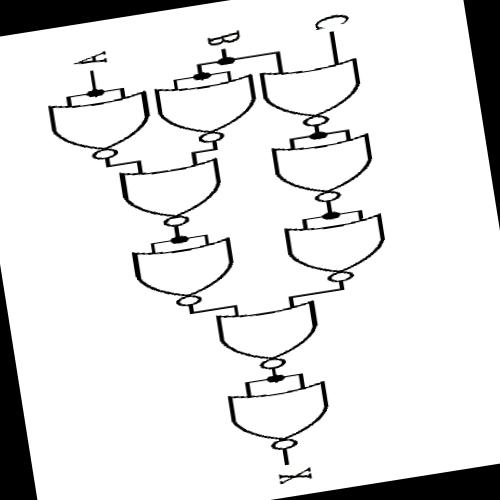nor: (219, 377, 343, 462), (111, 154, 234, 238), (276, 210, 398, 294), (209, 297, 330, 380), (263, 131, 384, 212), (125, 234, 244, 316), (255, 54, 372, 136), (43, 88, 160, 169), (146, 73, 265, 152)
